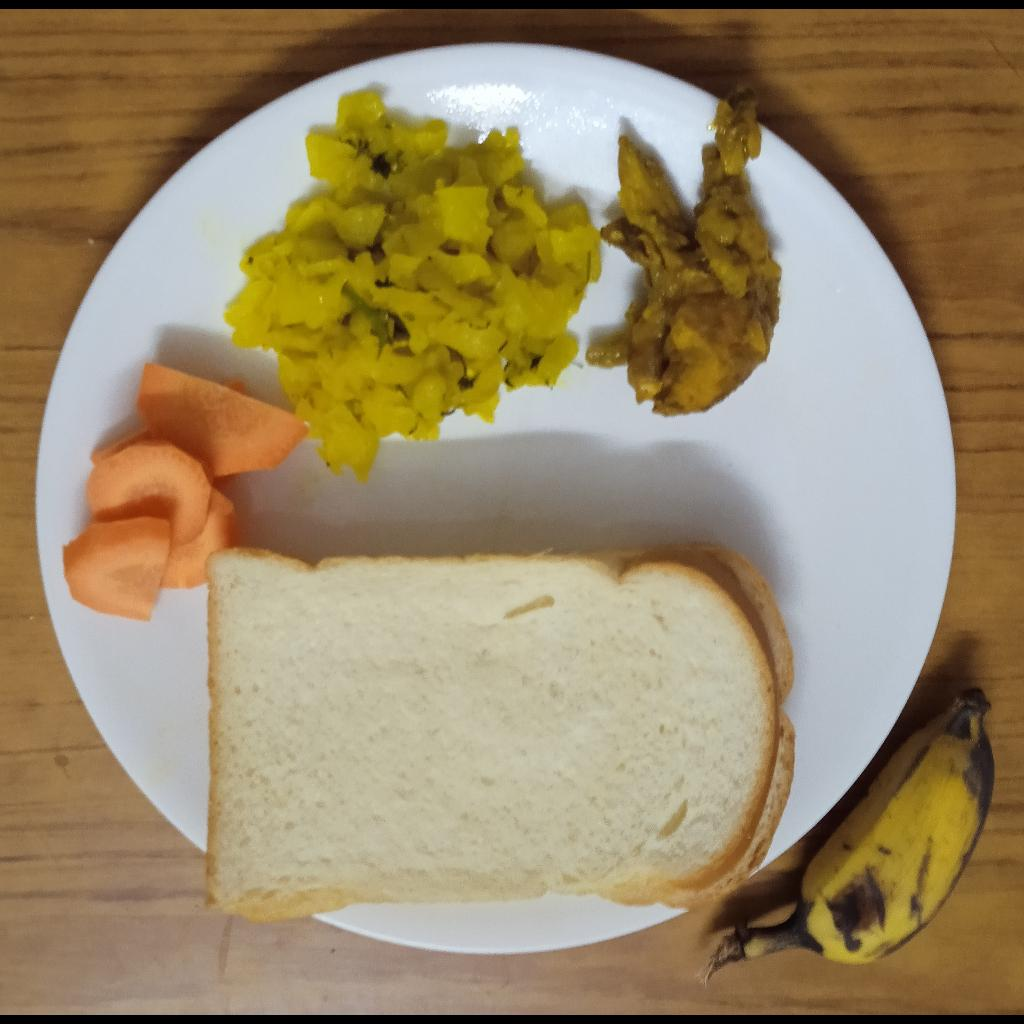banana: (695, 688, 994, 985)
bread: (204, 543, 796, 925)
carrot: (64, 360, 313, 621)
chicken: (587, 93, 782, 414)
lau: (222, 91, 602, 486)
